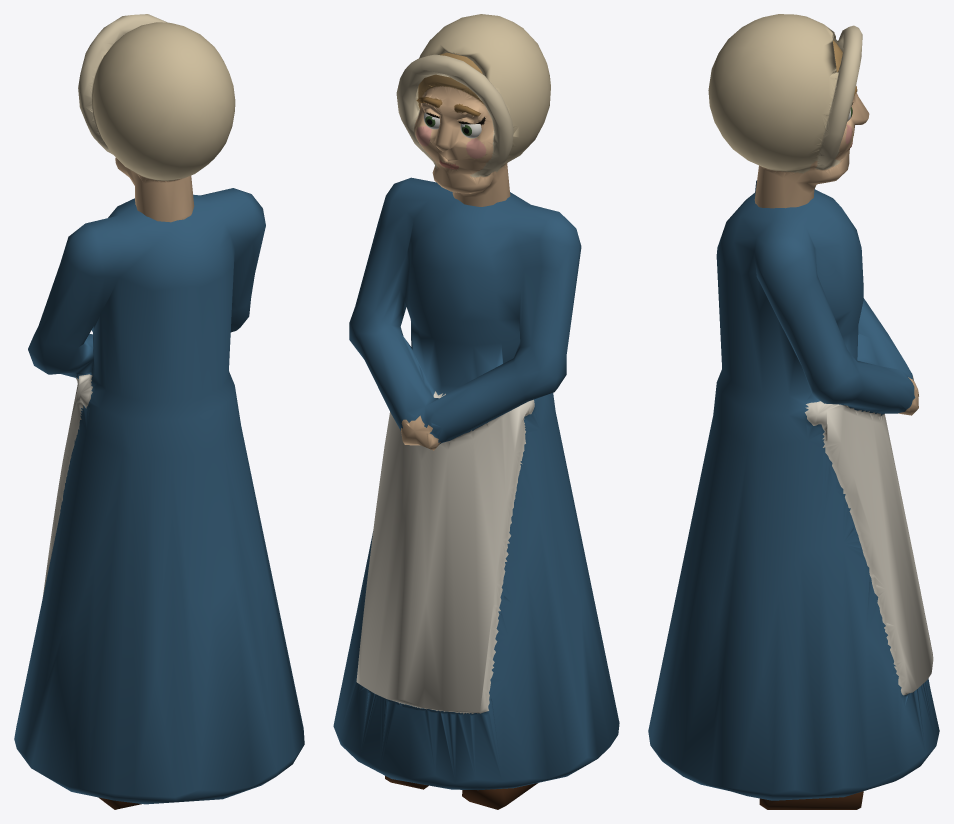
The model's file is jensen.glb.
The picture shows the model from 3 angles, left to right: view 1: azimuth 30°, elevation 25°; view 2: azimuth 150°, elevation 25°; view 3: azimuth 270°, elevation 25°; orthographic projection.
Visible parts, largest first — view 1: body_lod0, head_lod0; view 2: body_lod0, head_lod0; view 3: body_lod0, head_lod0.
Part boxes in pixels (bbox=[...]): body_lod0: bbox=[14, 188, 304, 809]; head_lod0: bbox=[78, 14, 235, 222]; body_lod0: bbox=[333, 177, 619, 809]; head_lod0: bbox=[396, 14, 550, 206]; body_lod0: bbox=[648, 180, 939, 809]; head_lod0: bbox=[708, 14, 869, 208].
Size of what is drawn, in the model's own units: 0.6614 by 1.93 by 0.6636.
